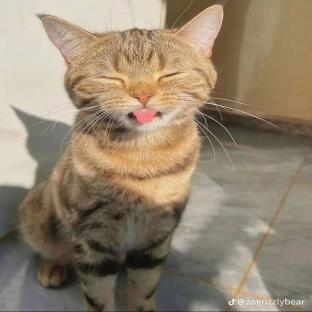Animal: (18, 4, 223, 312)
